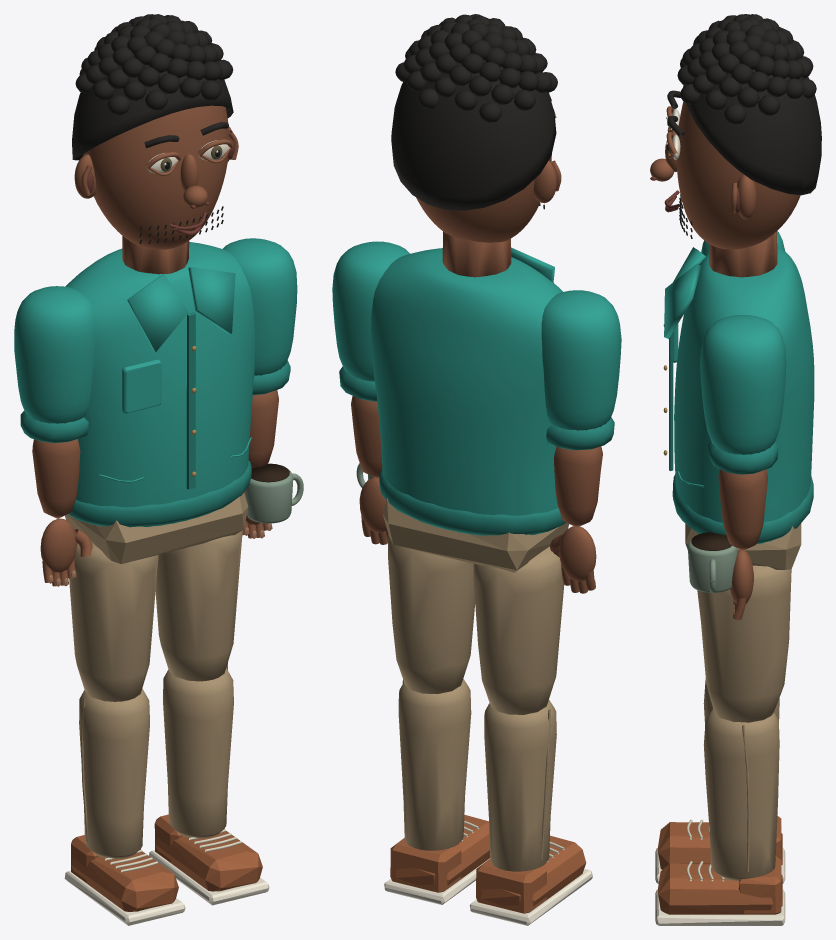
File: milo.glb
3 renders of one model, left to right at view 1: azimuth 30°, elevation 25°; view 2: azimuth 150°, elevation 25°; view 3: azimuth 270°, elevation 25°, orthographic.
Visible parts, largest first — view 1: Milo_Sweater, Milo_Brow, Milo_Face, Milo_Upper trouserL, Milo_Upper trouserR, Milo_Lower trouserL, Milo_Lower trouserR, Milo_SleeveL, Milo_SleeveR, Milo_Hem, Milo_Pelvis, Milo_ShoeR (+11 smaller); view 2: Milo_Sweater, Milo_Brow, Milo_Upper trouserL, Milo_Upper trouserR, Milo_Lower trouserL, Milo_Lower trouserR, Milo_SleeveL, Milo_SleeveR, Milo_Pelvis, Milo_ShoeL, Milo_Face, Milo_ShoeR (+10 smaller); view 3: Milo_Sweater, Milo_Brow, Milo_Lower trouserR, Milo_Upper trouserR, Milo_SleeveR, Milo_Face, Milo_ShoeR, Milo_Forearm skinR, Milo_Hem, Milo_ShoeL, Milo_Neck, Milo_Ceramic cup (+5 smaller).
Boxes of the visible parts, box(x1,y1,x2,y2) form: Milo_Sweater: box(65, 242, 254, 526); Milo_Brow: box(72, 14, 233, 243); Milo_Face: box(74, 105, 238, 249); Milo_Upper trouserL: box(69, 543, 158, 701); Milo_Upper trouserR: box(155, 530, 242, 681); Milo_Lower trouserL: box(79, 688, 149, 858); Milo_Lower trouserR: box(163, 663, 233, 838); Milo_SleeveL: box(14, 286, 95, 423); Milo_SleeveR: box(223, 238, 297, 375); Milo_Hem: box(68, 312, 251, 527); Milo_Pelvis: box(65, 493, 248, 564); Milo_ShoeR: box(154, 814, 262, 891); Milo_Sweater: box(371, 247, 562, 535); Milo_Brow: box(391, 14, 557, 210); Milo_Upper trouserL: box(473, 546, 564, 714); Milo_Upper trouserR: box(388, 534, 475, 693); Milo_Lower trouserL: box(484, 700, 556, 871); Milo_Lower trouserR: box(398, 679, 471, 850); Milo_SleeveL: box(541, 290, 621, 430); Milo_SleeveR: box(332, 241, 409, 381); Milo_Pelvis: box(382, 498, 569, 572); Milo_ShoeL: box(476, 835, 586, 913); Milo_Face: box(416, 154, 561, 242); Milo_ShoeR: box(390, 814, 490, 892); Milo_Sweater: box(664, 246, 814, 543); Milo_Brow: box(667, 14, 821, 238); Milo_Lower trouserR: box(703, 709, 779, 880); Milo_Upper trouserR: box(697, 565, 791, 722); Milo_SleeveR: box(700, 315, 786, 454); Milo_Face: box(650, 101, 800, 249); Milo_ShoeR: box(658, 856, 782, 914); Milo_Forearm skinR: box(718, 469, 768, 550); Milo_Hem: box(669, 332, 813, 543); Milo_ShoeL: box(658, 815, 782, 869); Milo_Neck: box(709, 231, 777, 277); Milo_Ceramic cup: box(687, 539, 737, 592).
Size of the model in its own units: 0.6823 by 2.05 by 0.3669.
